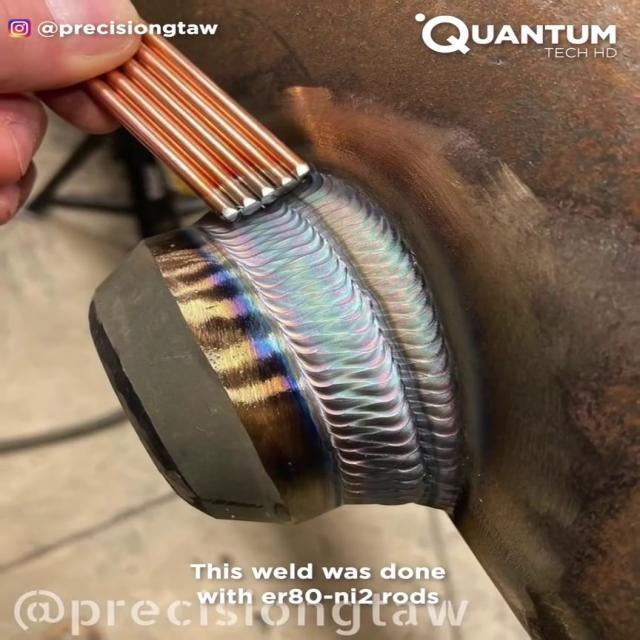Good Weld: (250, 210, 470, 498)
